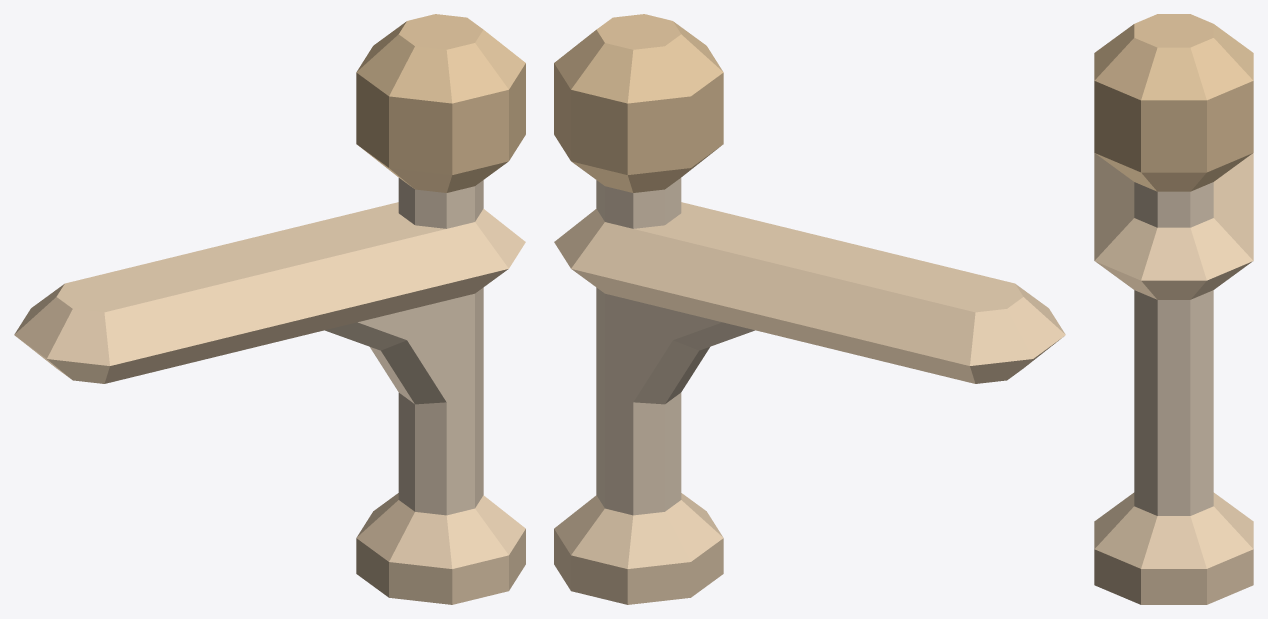
File: opengameart-modular-temple-3d-models-2_8.glb
The picture shows the model from 3 angles, left to right: view 1: azimuth 30°, elevation 25°; view 2: azimuth 150°, elevation 25°; view 3: azimuth 270°, elevation 25°; orthographic projection.
Parts seen in each view (by area): view 1: object1; view 2: object1; view 3: object1.
Part boxes in pixels (box(x1,y1,x2,y2)): object1: box(14, 14, 525, 604); object1: box(554, 14, 1065, 604); object1: box(1094, 14, 1253, 604).
Bounding box in the file's own units: 0.7 × 0.75 × 0.2.
